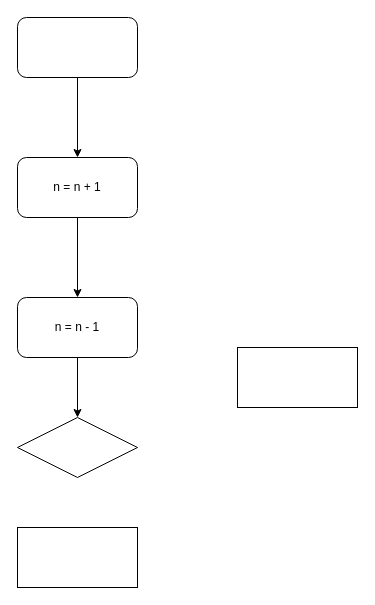
Some shapes in this 375 by 605 pixel diagram are drawn without their labels. Each missing label, with the centre of its shape:
"n is True" goes at point (77, 447).
"开始" goes at point (77, 47).
